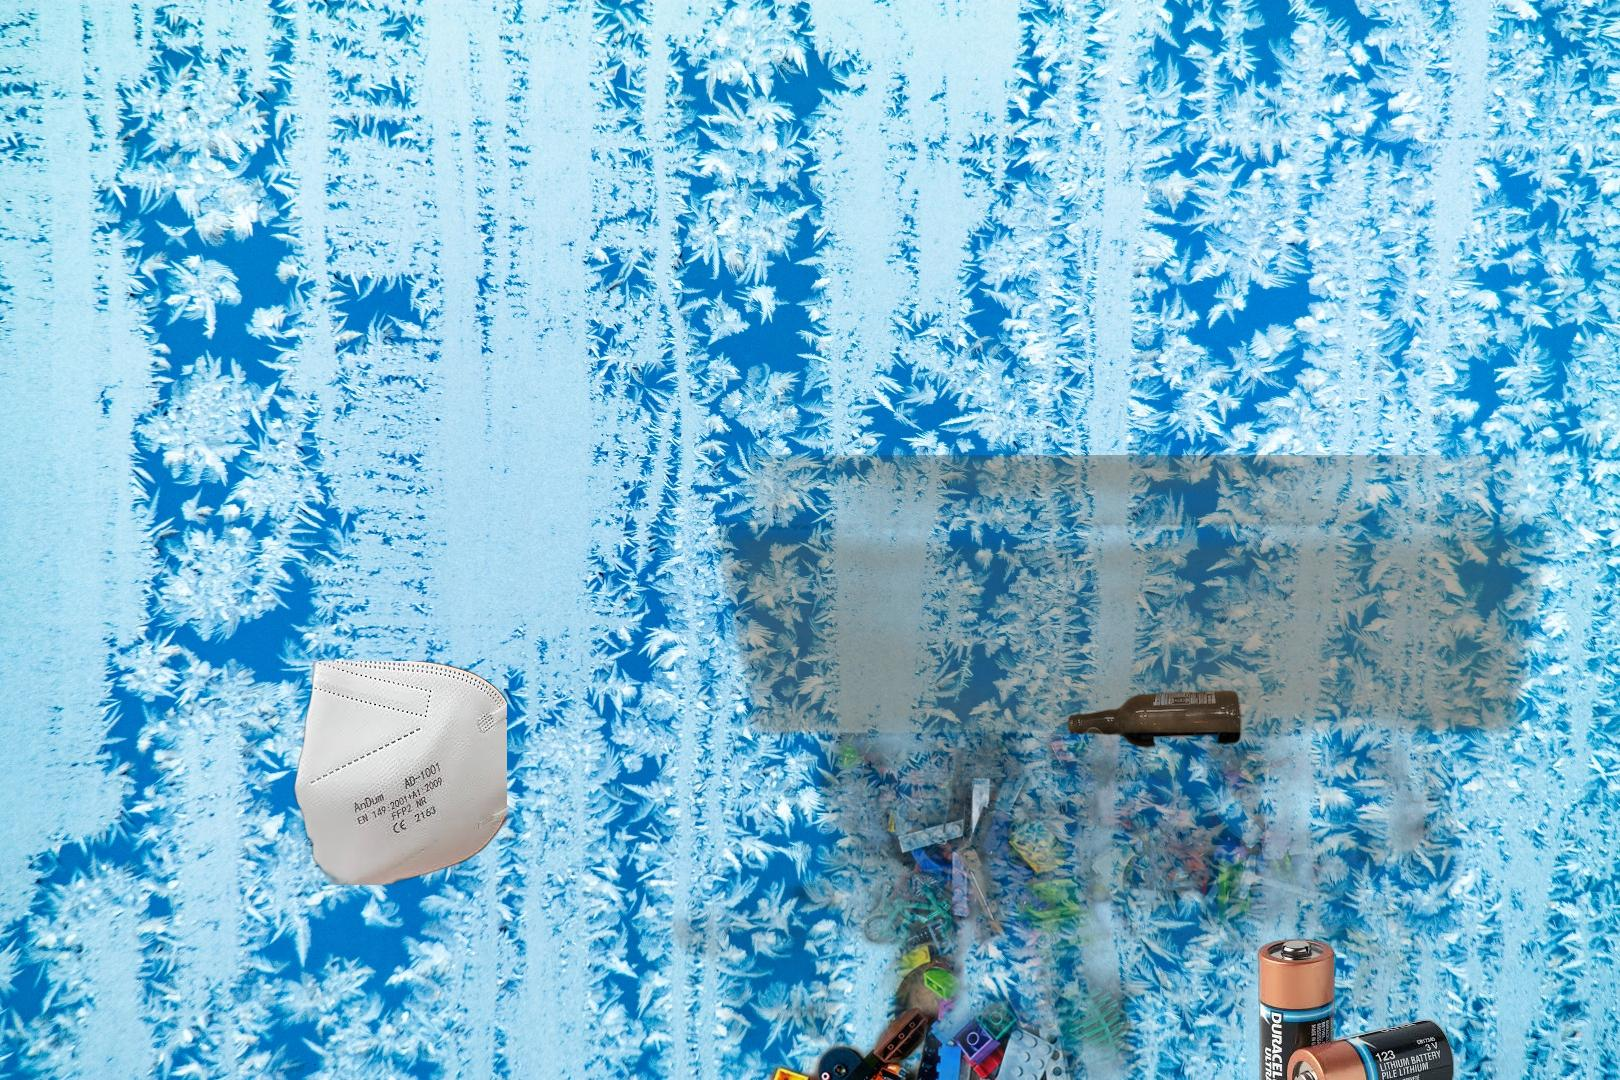battery: (1255, 937, 1457, 1080)
glass: (1064, 687, 1245, 752)
trash: (288, 661, 507, 885)
trashbox-cardboard: (554, 454, 1620, 1080)
